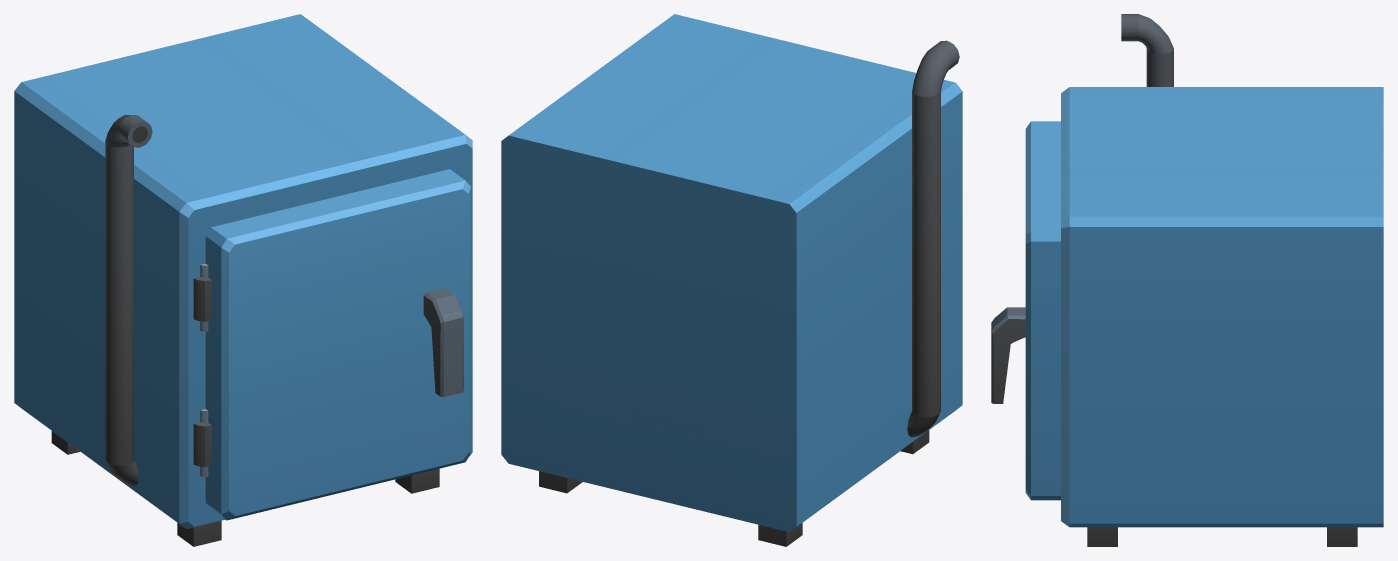
File: Furnace_Closed.FBX
3 views of the same model, side by side, from view 1: azimuth 30°, elevation 25°; view 2: azimuth 150°, elevation 25°; view 3: azimuth 270°, elevation 25° (orthographic). The views are drawn at different scales.
Parts seen in each view (by area): view 1: furnace; view 2: furnace; view 3: furnace.
Part boxes in pixels (x1,y1,x2,y2): furnace: [14, 14, 472, 546]; furnace: [501, 14, 962, 546]; furnace: [991, 14, 1383, 546].
Size of the model in its own units: 2.04 by 2.58 by 2.29.
